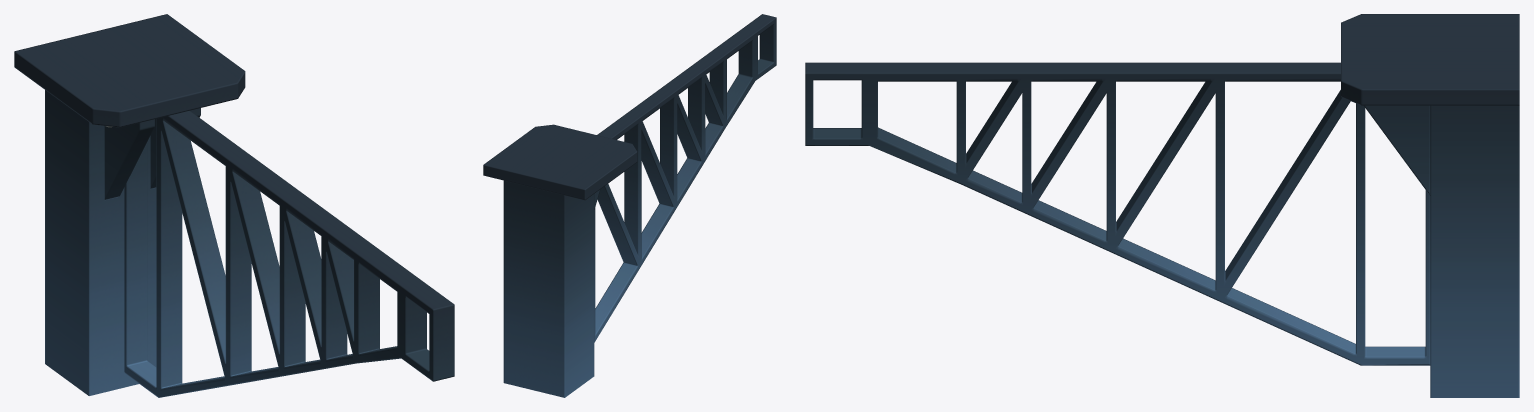
The model's file is SM_pillar_top.fbx.
3 views of the same model, side by side, from view 1: azimuth 30°, elevation 25°; view 2: azimuth 150°, elevation 25°; view 3: azimuth 270°, elevation 25° (orthographic). The views are drawn at different scales.
Parts seen in each view (by area): view 1: SM_pillar_top; view 2: SM_pillar_top; view 3: SM_pillar_top.
Part boxes in pixels (box(x1,y1,x2,y2)): SM_pillar_top: box(14, 14, 454, 397); SM_pillar_top: box(483, 14, 776, 397); SM_pillar_top: box(805, 14, 1519, 397).
Size of the model in its own units: 100 by 200 by 400.
